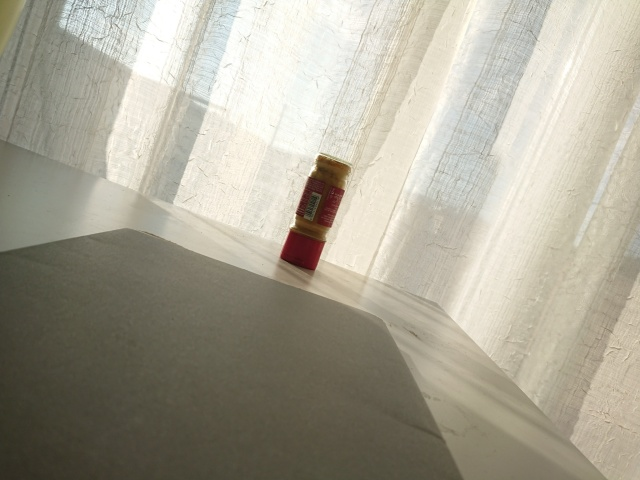Kotanyi Curry Spices Mix 70g: (278, 150, 357, 273)
